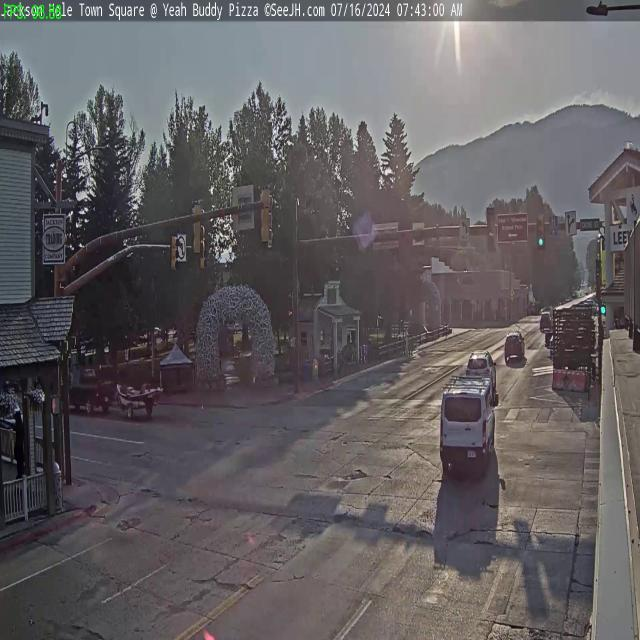pickup: (62, 367, 118, 417)
suv: (467, 346, 497, 389), (504, 331, 525, 361)
traffic light: (259, 184, 272, 244), (190, 200, 203, 256), (486, 207, 496, 252), (170, 234, 179, 271), (537, 215, 545, 248)
van: (438, 374, 498, 478)
